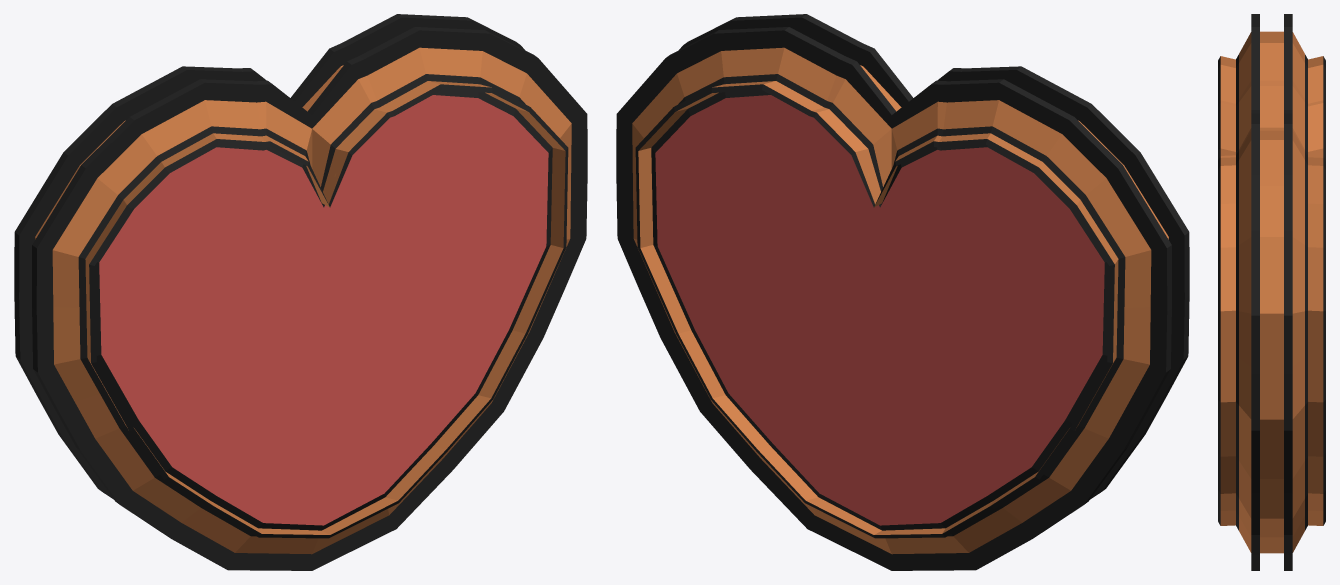
File: heart.fbx
3 renders of one model, left to right at view 1: azimuth 30°, elevation 25°; view 2: azimuth 150°, elevation 25°; view 3: azimuth 270°, elevation 25°, orthographic. The views are drawn at different scales.
Parts seen in each view (by area): view 1: Heart; view 2: Heart; view 3: Heart.
Part boxes in pixels (x1,y1,x2,y2): Heart: (14,14,587,570); Heart: (616,14,1189,570); Heart: (1218,14,1325,570).
Size of the model in its own units: 363 by 324 by 66.54.
